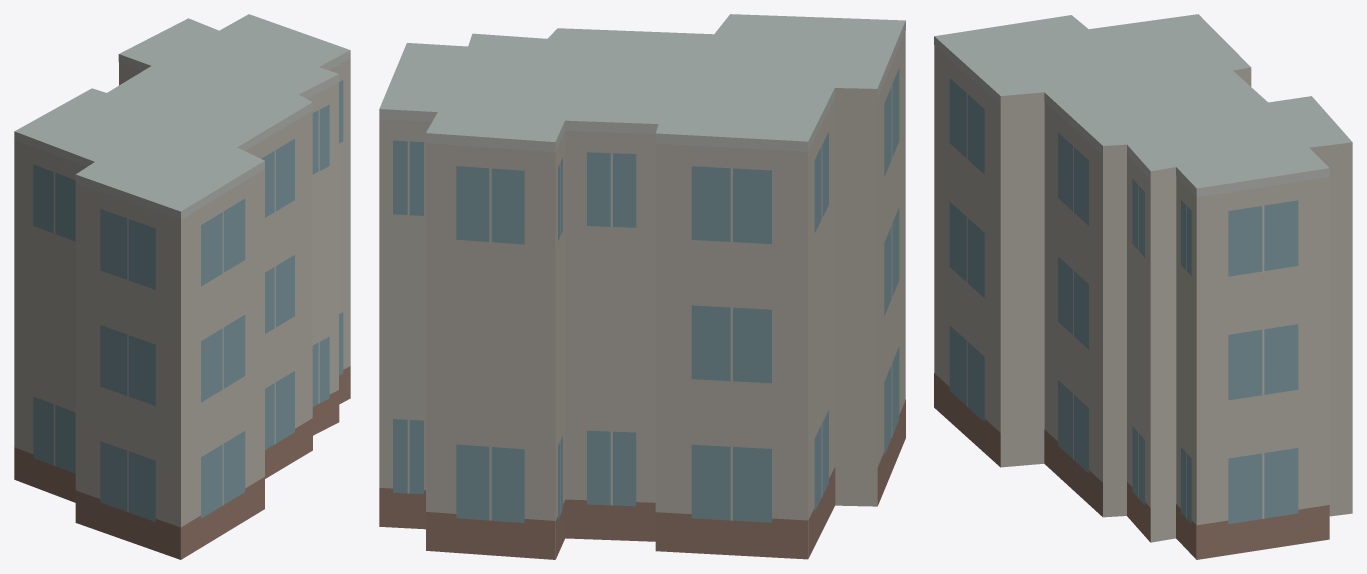
Rendered from survey-upis-32503421.glb.
The picture shows the model from 3 angles, left to right: view 1: azimuth 30°, elevation 25°; view 2: azimuth 150°, elevation 25°; view 3: azimuth 270°, elevation 25°; orthographic projection. The views are drawn at different scales.
Visible parts, largest first — view 1: survey-upis-32503421.tmp; view 2: survey-upis-32503421.tmp; view 3: survey-upis-32503421.tmp.
Part boxes in pixels (bbox=[...]): survey-upis-32503421.tmp: bbox=[14, 14, 350, 559]; survey-upis-32503421.tmp: bbox=[379, 14, 905, 559]; survey-upis-32503421.tmp: bbox=[934, 14, 1352, 559].
Bounding box in the file's own units: 10.29 × 10.2 × 10.43.
